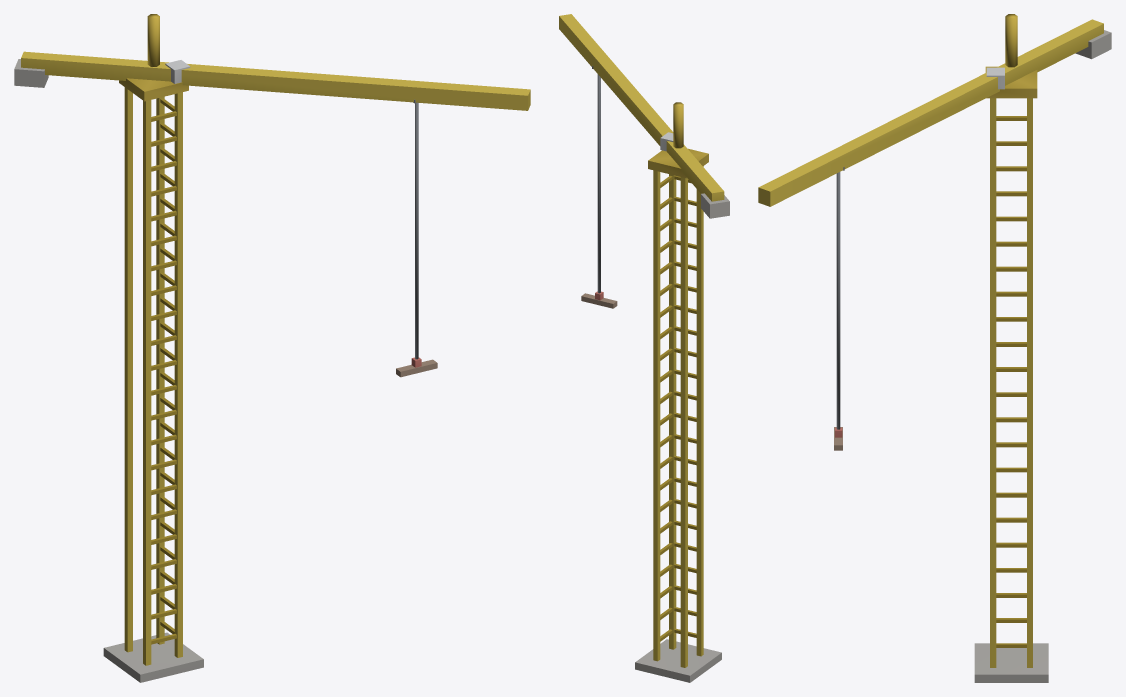
The model's file is crane-2-2.glb.
The picture shows the model from 3 angles, left to right: view 1: azimuth 30°, elevation 25°; view 2: azimuth 150°, elevation 25°; view 3: azimuth 270°, elevation 25°; orthographic projection. The views are drawn at different scales.
Visible parts, largest first — view 1: crane-2-2; view 2: crane-2-2; view 3: crane-2-2.
Boxes of the visible parts, bbox=[...] form: crane-2-2: bbox=[14, 14, 530, 682]; crane-2-2: bbox=[559, 14, 729, 682]; crane-2-2: bbox=[758, 14, 1111, 682].
Bounding box in the file's own units: 1.35 × 2.33 × 1.15.
